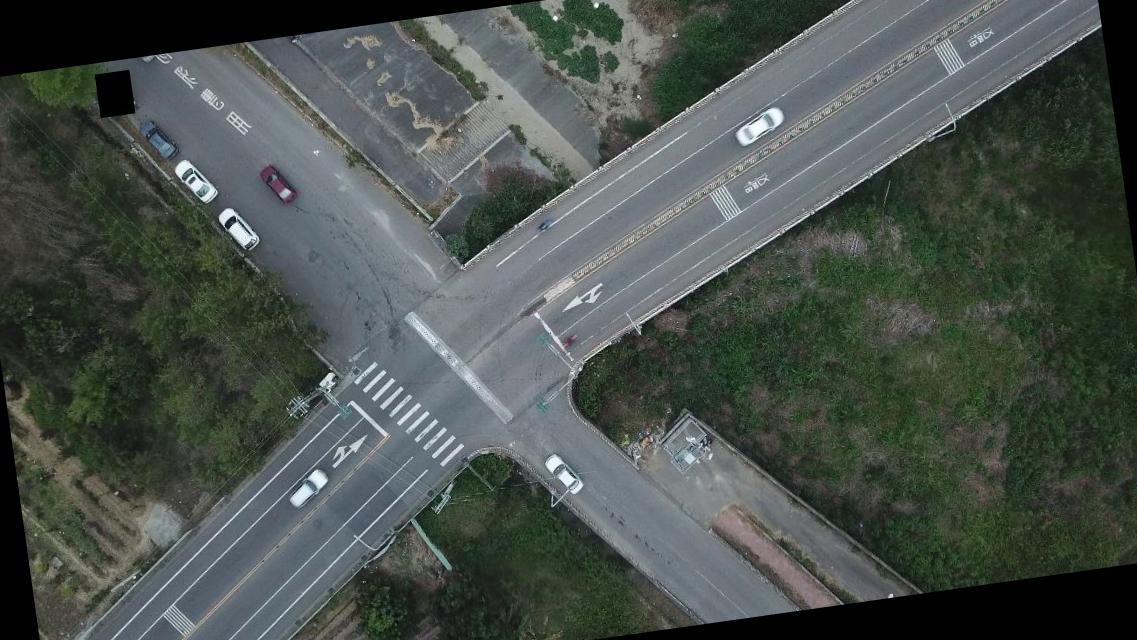vehicle: (730, 105, 789, 148), (173, 156, 219, 208), (216, 204, 262, 256), (284, 467, 332, 511), (255, 160, 297, 209), (136, 115, 178, 163), (542, 451, 584, 498)
